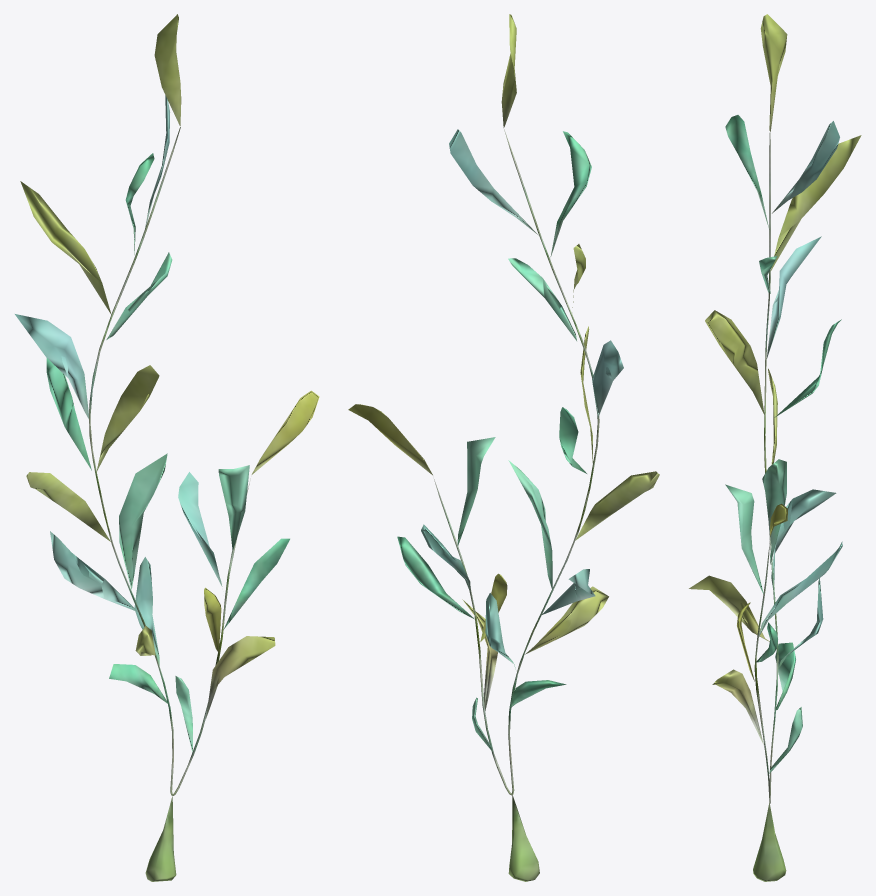
File: fern.glb
The picture shows the model from 3 angles, left to right: view 1: azimuth 30°, elevation 25°; view 2: azimuth 150°, elevation 25°; view 3: azimuth 270°, elevation 25°; orthographic projection.
Visible parts, largest first — view 1: fern; view 2: fern; view 3: fern.
Boxes of the visible parts, x1,y1,x2,y2 form: fern: (15, 14, 319, 881); fern: (348, 14, 659, 881); fern: (689, 14, 861, 881).
Size of the model in its own units: 0.4663 by 1.27 by 0.2285.
1 material, 1 textured.
